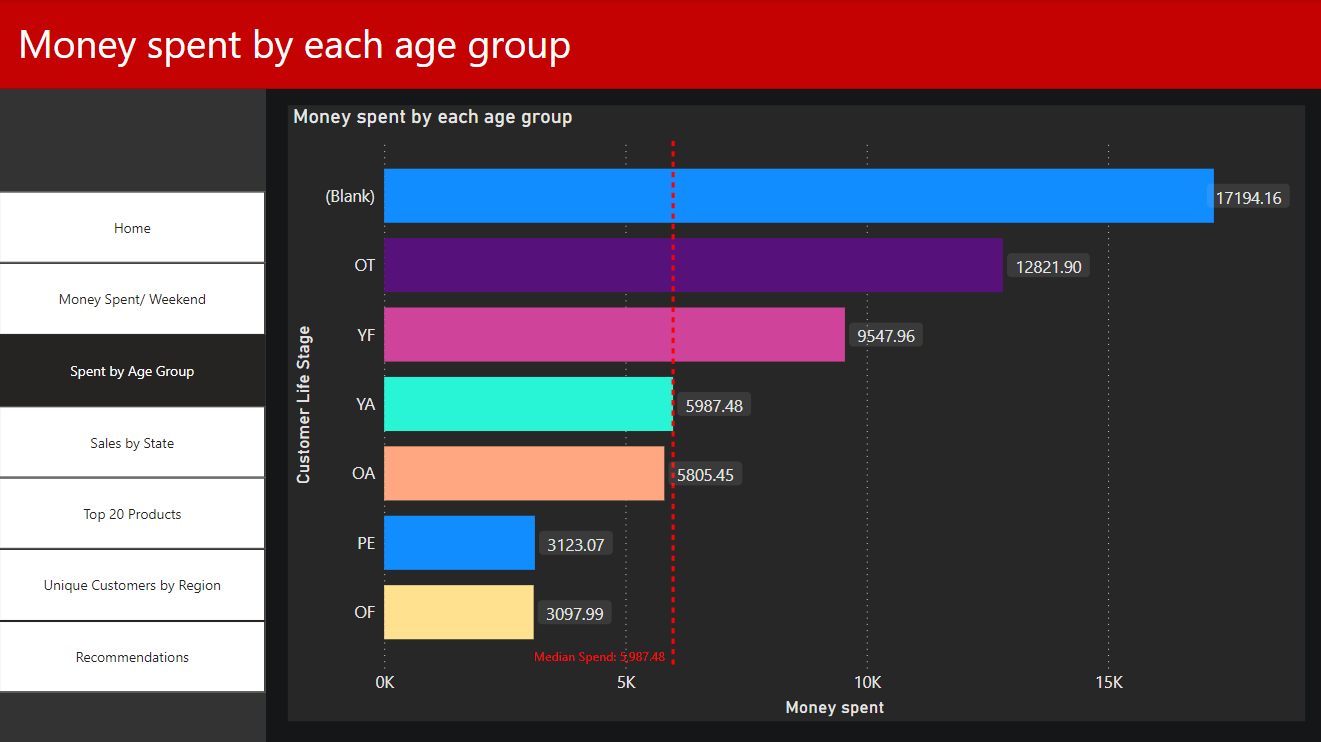

This screenshot's page, from the dashboard's own definition file:
{"tool":"powerbi","page":{"name":"Spent by Age Group","canvas":[1280,720],"ordinal":2},"visuals":[{"type":"shape","box":[0,0,1279.9,86.8],"z":0},{"type":"shape","box":[0,86.8,257.9,633.2],"z":1000},{"type":"clusteredBarChart","title":"Money spent by each age group","fields":{"Category":["QUESTION_2.CUST_LIFESTAGE"],"Y":["Sum(QUESTION_2.Customer_total_spend)"]},"box":[278.6,102.5,981.7,594.6],"z":2000},{"type":"pageNavigator","box":[0,185.8,257.9,485.3],"z":3000},{"type":"textbox","box":[13.3,12.1,1245.8,74.8],"z":4000}]}

Visuals, with their boxes on the page's 1280x720 design canvas (x1, y1, x2, y2). These are canvas units, not pixel positions in the 1321x742 screenshot, which may show the page scaled, cropped or inside an application window:
shape: (x1=0, y1=0, x2=1280, y2=87)
shape: (x1=0, y1=87, x2=258, y2=720)
"Money spent by each age group" clusteredBarChart: (x1=279, y1=102, x2=1260, y2=697)
pageNavigator: (x1=0, y1=186, x2=258, y2=671)
textbox: (x1=13, y1=12, x2=1259, y2=87)
